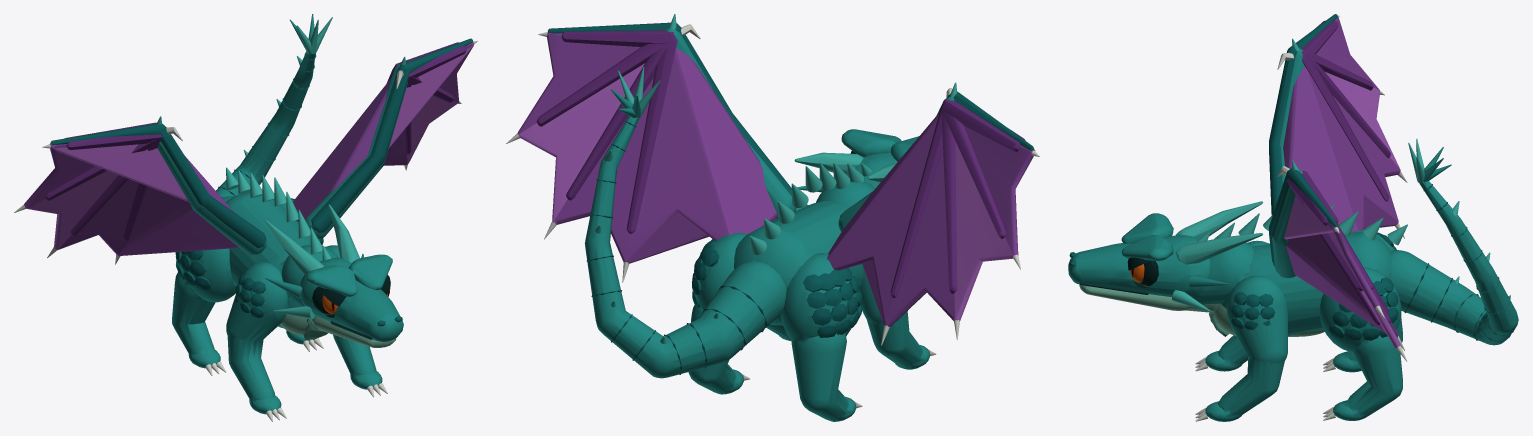
The model's file is scalewisp.glb.
3 views of the same model, side by side, from view 1: azimuth 30°, elevation 25°; view 2: azimuth 150°, elevation 25°; view 3: azimuth 270°, elevation 25° (orthographic). The views are drawn at different scales.
Visible parts, largest first — view 1: creature; view 2: creature; view 3: creature.
Boxes of the visible parts, left/top/right/bottom form: creature: left=14, top=14, right=477, bottom=421; creature: left=506, top=14, right=1039, bottom=421; creature: left=1068, top=14, right=1518, bottom=421.
Size of the model in its own units: 1.61 by 1 by 1.37.
